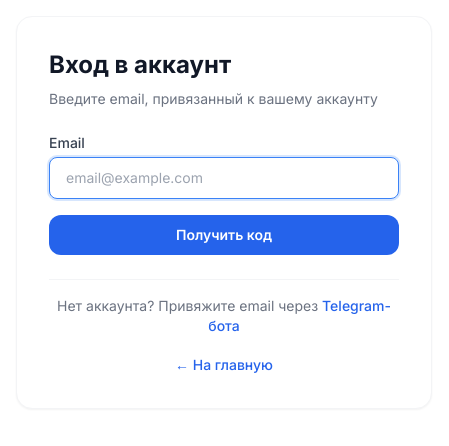
Test case: LoginForm › shows a validation error for an empty email
This screenshot has width=449, height=446.
Click the button "Получить код" at (224, 235), box [49, 215, 399, 255]
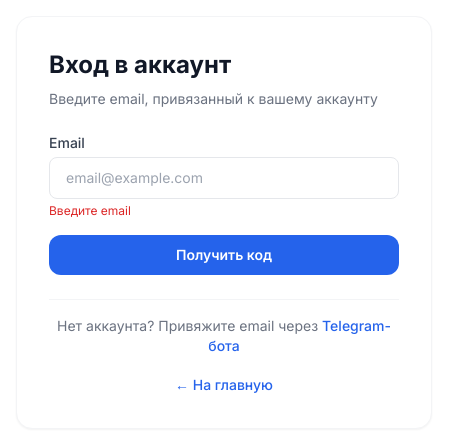
Expected: the text "Введите email" is shown, [49, 203, 131, 218]
